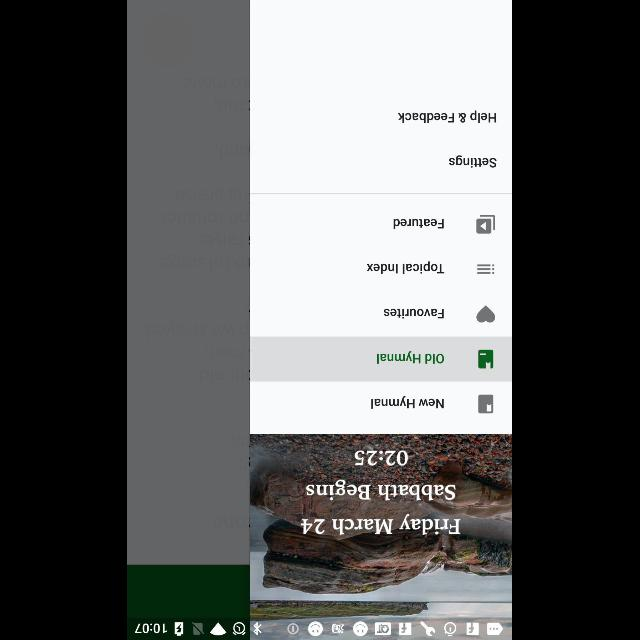icon: (476, 214, 496, 233), (476, 306, 496, 322), (480, 394, 494, 414), (480, 349, 494, 368), (478, 264, 494, 274)
image: (252, 434, 512, 616)
panel: (252, 0, 512, 618)
text: (302, 513, 462, 535), (307, 479, 457, 501), (398, 110, 498, 124), (367, 260, 445, 274), (355, 449, 409, 466), (377, 351, 445, 364), (372, 396, 444, 408), (449, 154, 497, 168), (384, 309, 444, 319), (394, 218, 444, 230)
uppertaskbar: (128, 617, 512, 639)
